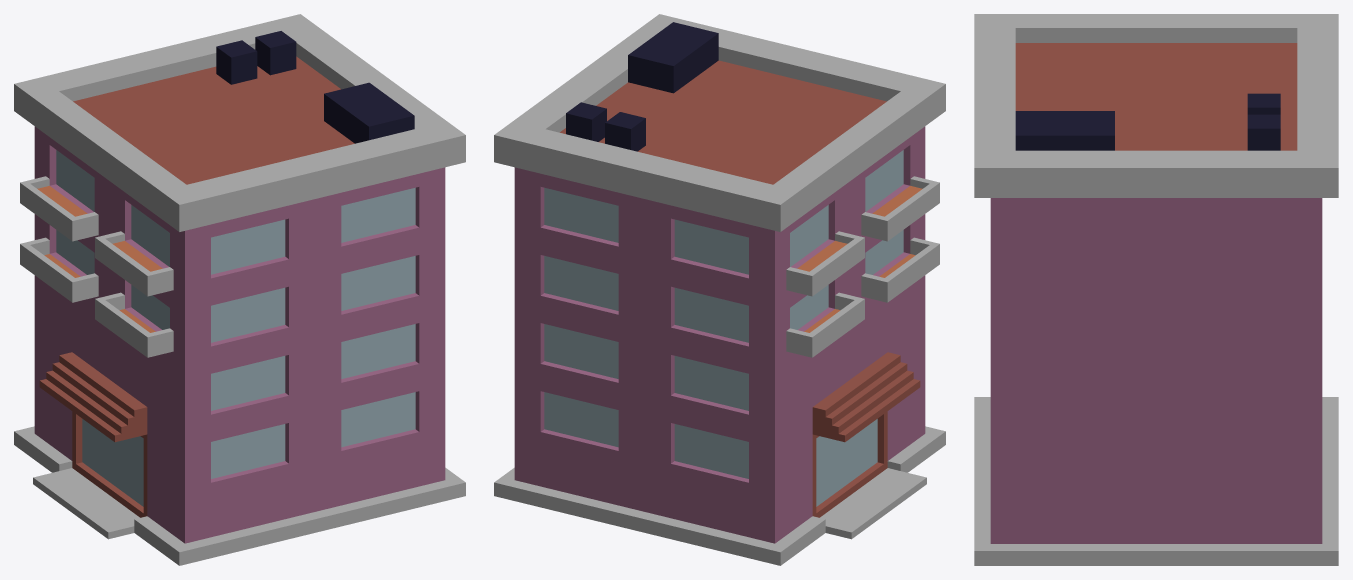
The model's file is Buildings Final For Import-11.obj.
3 renders of one model, left to right at view 1: azimuth 30°, elevation 25°; view 2: azimuth 150°, elevation 25°; view 3: azimuth 270°, elevation 25°, orthographic. The views are drawn at different scales.
Bounding box in the file's own units: 4.8 × 5.5 × 4.4.
1 material, 1 textured.
